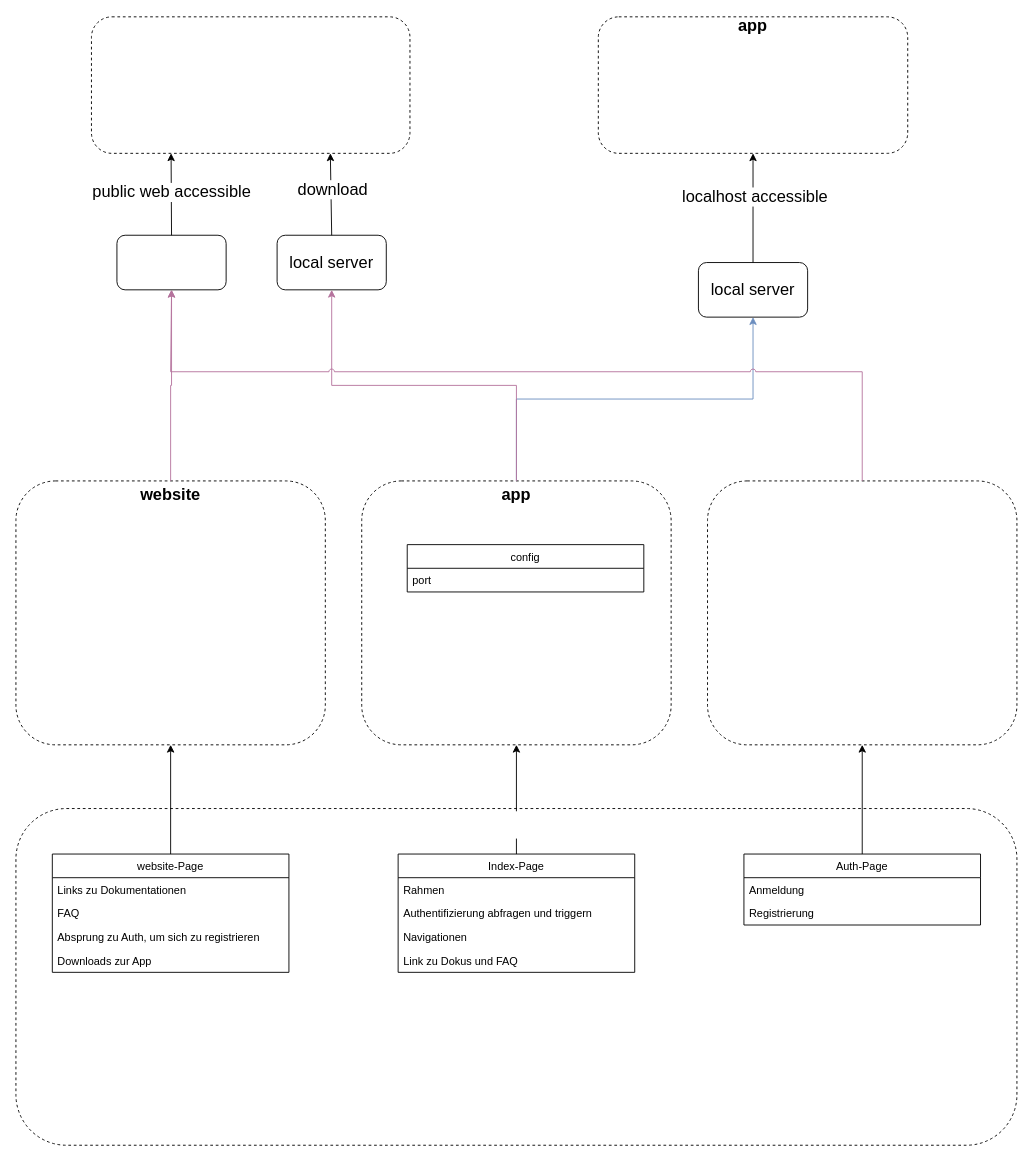
Some shapes in this 1033 by 1161 pixel diagram are drawn without their labels. The centre of each missing label's shape, as x and y in pixels:
auth: the point at 862,612
lambda: the point at 250,84
lambda server: the point at 171,262
webclient: the point at 515,824
